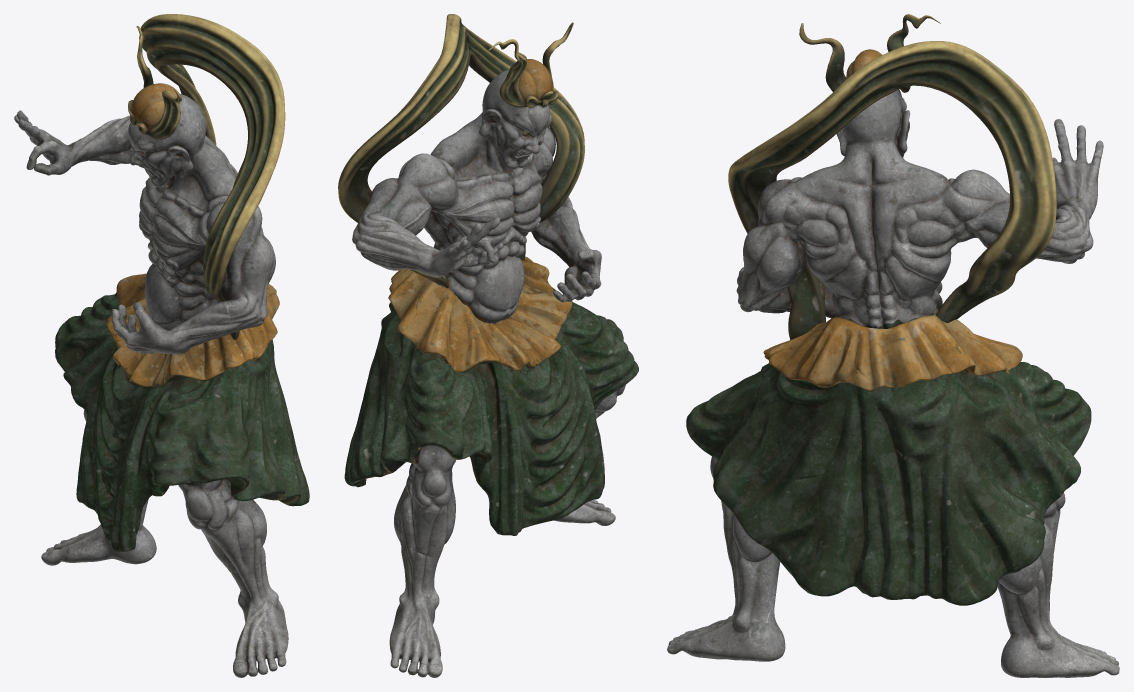
The model's file is SM_Statue_1.fbx.
The picture shows the model from 3 angles, left to right: view 1: azimuth 30°, elevation 25°; view 2: azimuth 150°, elevation 25°; view 3: azimuth 270°, elevation 25°; orthographic projection. The views are drawn at different scales.
Visible parts, largest first — view 1: SM_Statue_1_LOD0; view 2: SM_Statue_1_LOD0; view 3: SM_Statue_1_LOD0.
Part boxes in pixels (x1,y1,x2,y2): SM_Statue_1_LOD0: [14, 14, 309, 677]; SM_Statue_1_LOD0: [338, 14, 638, 677]; SM_Statue_1_LOD0: [667, 14, 1119, 677].
Size of the model in its own units: 198 by 342 by 546.
